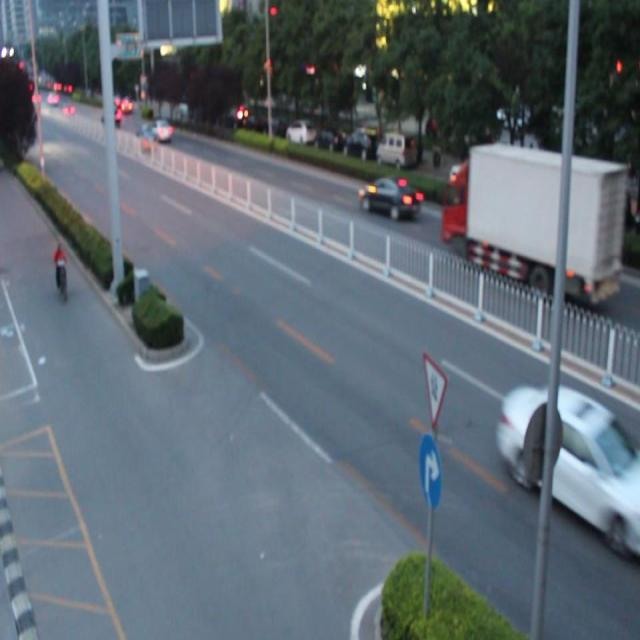bus: (438, 139, 628, 311)
car: (494, 378, 640, 554), (358, 178, 423, 224), (132, 123, 160, 158), (150, 118, 174, 146)
